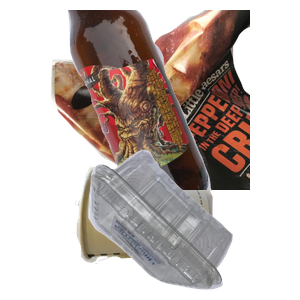glass: (65, 10, 300, 190)
paper: (49, 10, 289, 190)
plastic: (86, 147, 300, 300)
trash: (73, 164, 278, 300)
